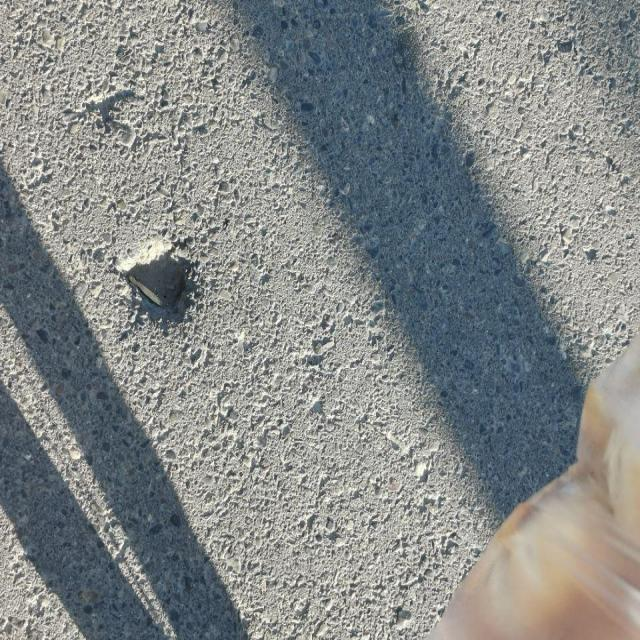Pothole: (119, 240, 195, 321)
